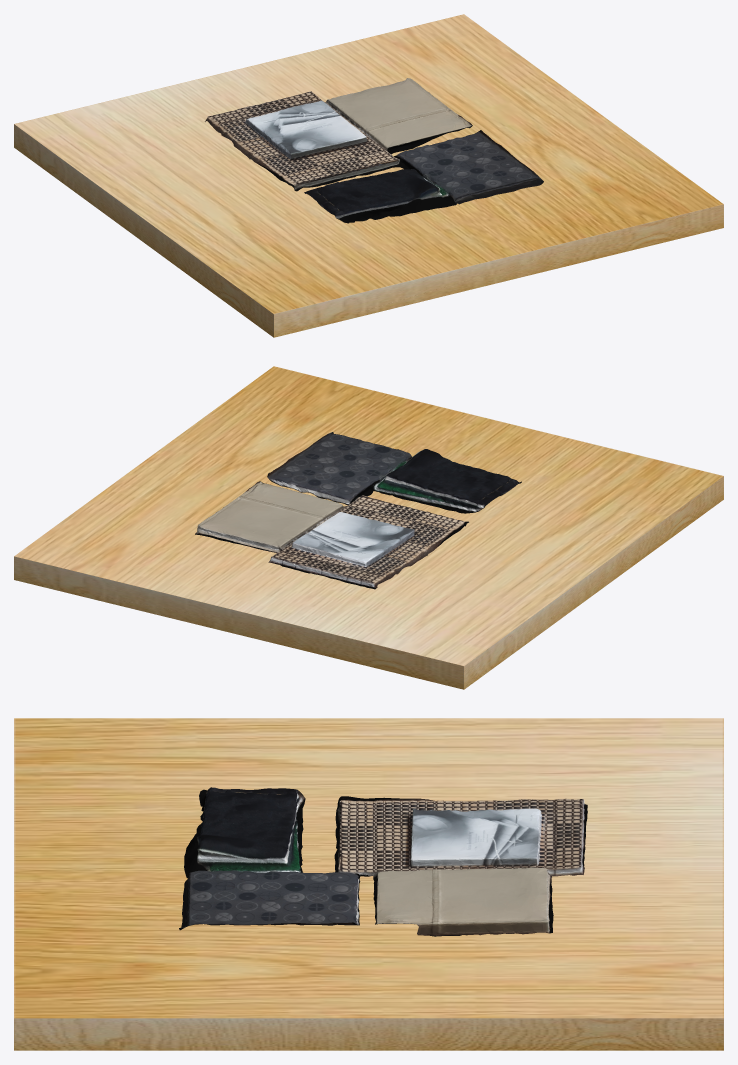
Rendered from books.glb.
3 renders of one model, top to bottom at view 1: azimuth 30°, elevation 25°; view 2: azimuth 150°, elevation 25°; view 3: azimuth 270°, elevation 25°, orthographic. The views are drawn at different scales.
Parts seen in each view (by area): view 1: Mesh_0, books; view 2: Mesh_0, books; view 3: Mesh_0, books.
Boxes of the visible parts, bbox=[...] form: Mesh_0: bbox=[14, 14, 723, 337]; books: bbox=[205, 78, 543, 223]; Mesh_0: bbox=[14, 366, 723, 689]; books: bbox=[195, 432, 521, 589]; Mesh_0: bbox=[14, 718, 723, 1050]; books: bbox=[179, 787, 587, 936].
Bounding box in the file's own units: 2 × 0.1949 × 2.
2 materials, 2 textured.
